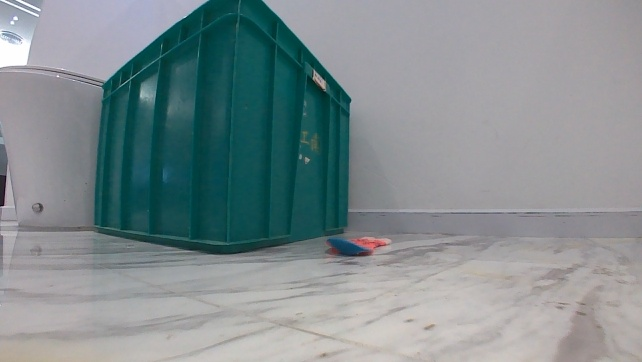socks: (322, 233, 394, 257)
toilet: (0, 62, 109, 234)
